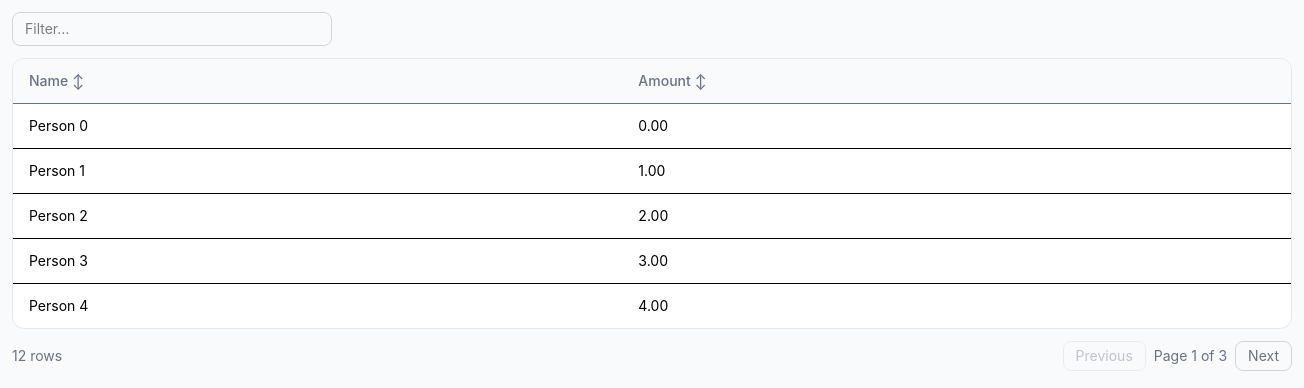
Test: DataTable › paginates
expect the text "Page 1 of 3" is shown: met, box x1=1154 y1=346 x2=1227 y2=366
expect the text "Person 0" is shown: met, box x1=13 y1=104 x2=622 y2=148
Click the button "Next" at (1264, 356), box x1=1235 y1=341 x2=1292 y2=371
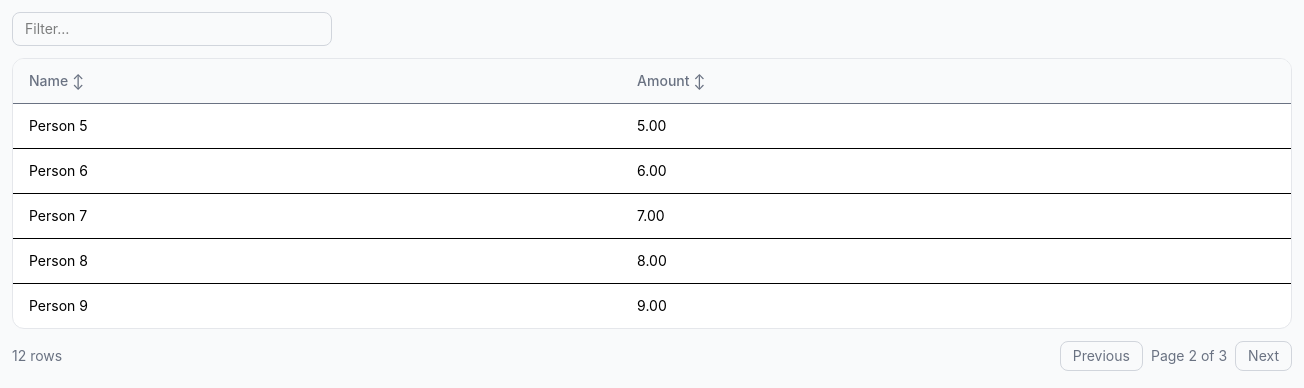
expect the text "Page 2 of 3" is shown: met, box x1=1151 y1=346 x2=1227 y2=366
expect the text "Person 5" is shown: met, box x1=13 y1=104 x2=621 y2=148
